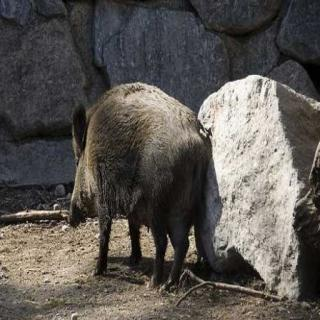Pig: (32, 66, 219, 261)
